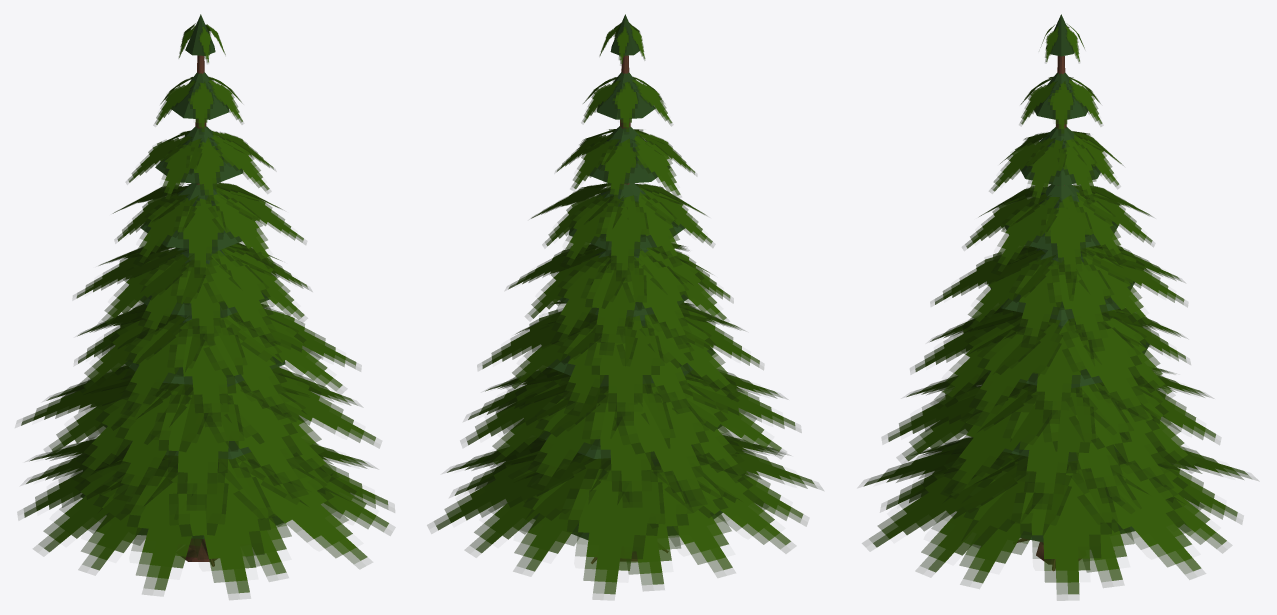
File: fir.glb
The picture shows the model from 3 angles, left to right: view 1: azimuth 30°, elevation 25°; view 2: azimuth 150°, elevation 25°; view 3: azimuth 270°, elevation 25°; orthographic projection.
Visible parts, largest first — view 1: fir_Leaf_Fir, fir_Core_Fir, fir_Bark_Dark; view 2: fir_Leaf_Fir, fir_Core_Fir; view 3: fir_Leaf_Fir, fir_Core_Fir.
Boxes of the visible parts, x1,y1,x2,y2 form: fir_Leaf_Fir: (16,23,394,599); fir_Core_Fir: (81,14,285,538); fir_Bark_Dark: (182,55,217,566); fir_Leaf_Fir: (427,22,823,599); fir_Core_Fir: (533,14,722,539); fir_Leaf_Fir: (861,23,1258,600); fir_Core_Fir: (988,14,1149,542).
Size of the model in its own units: 6.97 by 10.5 by 7.17.
3 materials, 2 textured.
